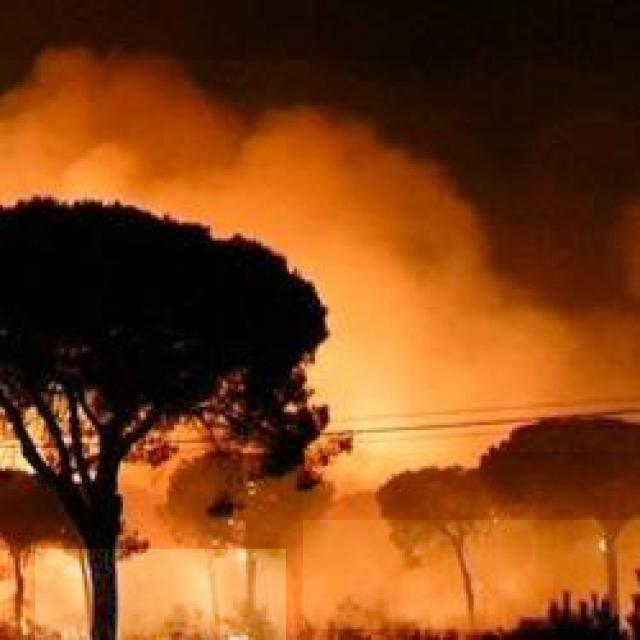Fire: (35, 549, 286, 640)
Smoke: (0, 60, 640, 452), (303, 520, 640, 629)
